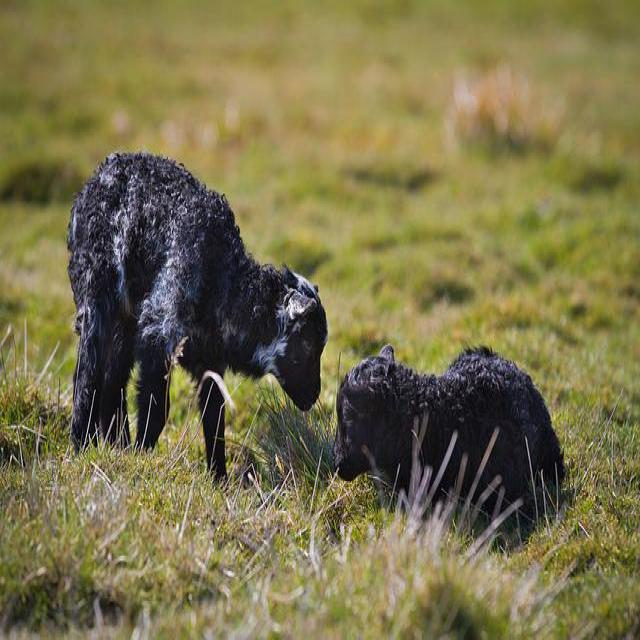Sheep: (68, 153, 330, 486), (330, 346, 564, 532)
